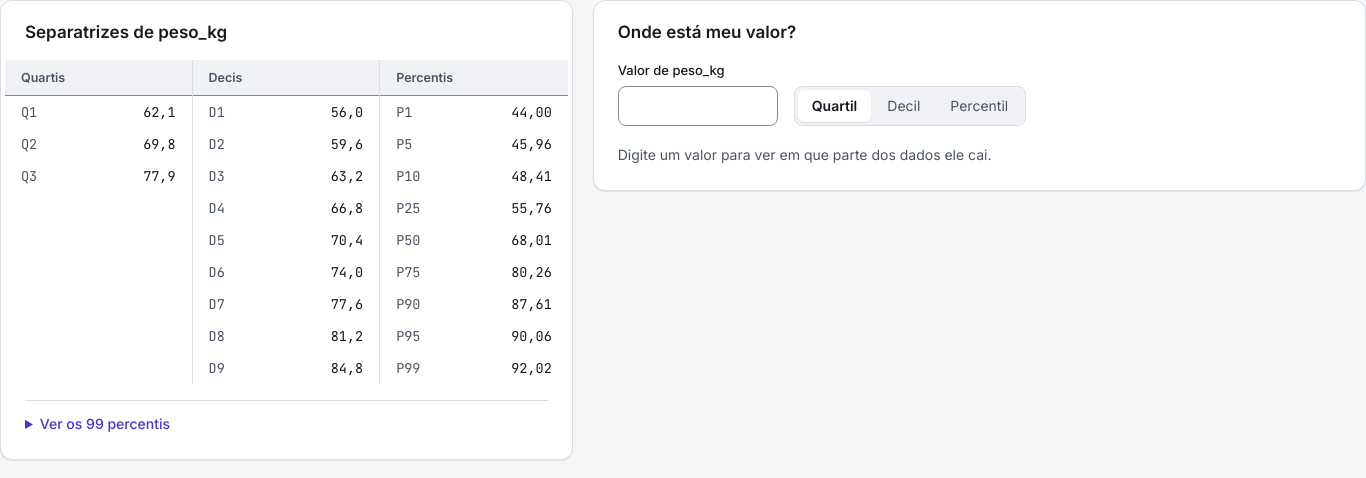
Test: AbaSeparatrizes › valor acima do maior dado mostra o aviso de fora da faixa
Step 1. Type "120" into the field labelled "Valor de peso_kg" → (698, 106), box x1=618 y1=86 x2=778 y2=126
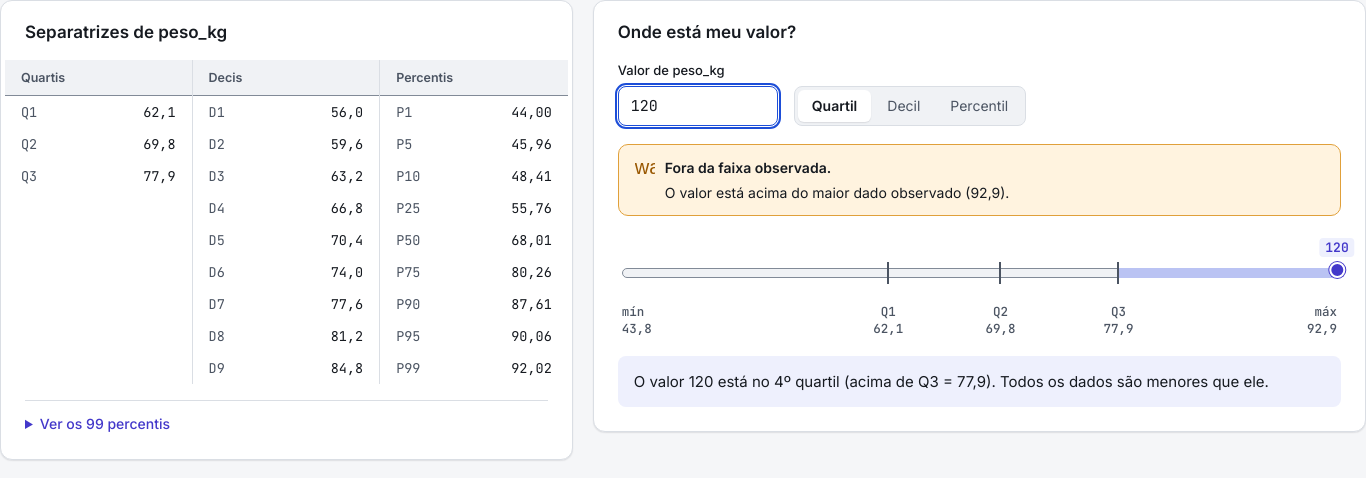
Check: the text "Fora da faixa observada." is shown, box x1=665 y1=159 x2=831 y2=176
